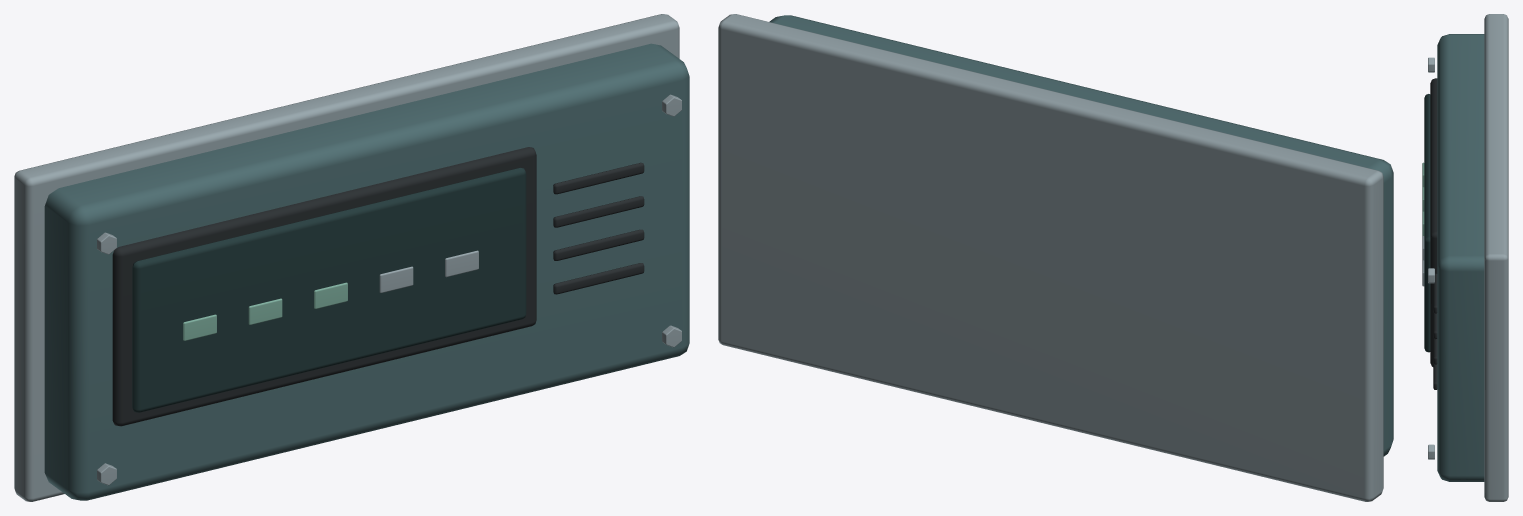
Rendered from HF2_ContactRepeater.fbx.
3 renders of one model, left to right at view 1: azimuth 30°, elevation 25°; view 2: azimuth 150°, elevation 25°; view 3: azimuth 270°, elevation 25°, orthographic. The views are drawn at different scales.
Parts seen in each view (by area): view 1: HF2_ContactRepeater; view 2: HF2_ContactRepeater; view 3: HF2_ContactRepeater.
Boxes of the visible parts, bbox=[...] form: HF2_ContactRepeater: bbox=[14, 14, 689, 501]; HF2_ContactRepeater: bbox=[718, 14, 1393, 501]; HF2_ContactRepeater: bbox=[1422, 14, 1508, 501].
Bounding box in the file's own units: 76 × 36 × 11.35.
